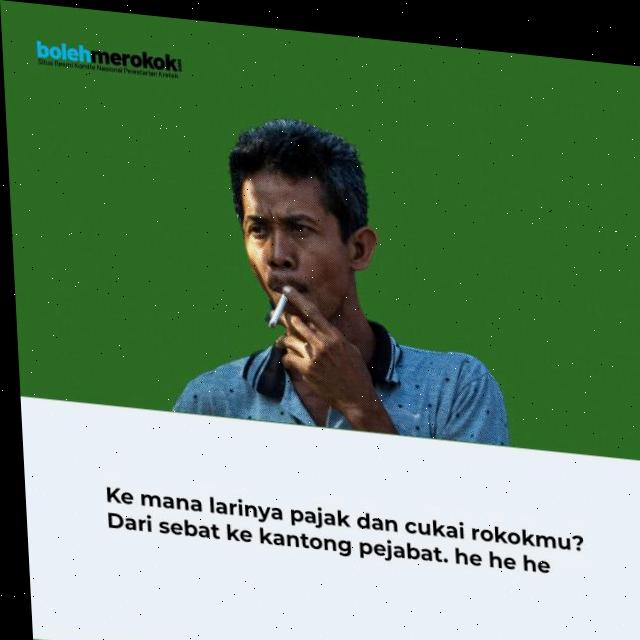cigarette: (265, 283, 292, 325)
